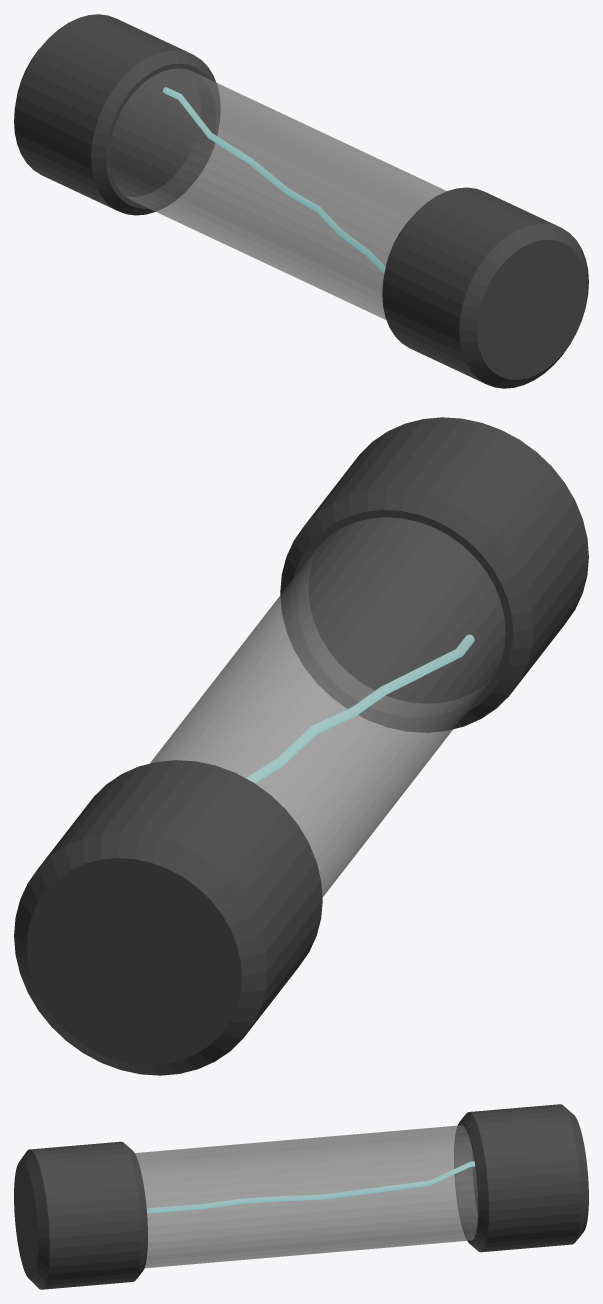
Rendered from Fuse.glb.
3 views of the same model, one above another, from view 1: azimuth 30°, elevation 25°; view 2: azimuth 150°, elevation 25°; view 3: azimuth 270°, elevation 25° (orthographic). The views are drawn at different scales.
Parts seen in each view (by area): view 1: Cylinder; view 2: Cylinder; view 3: Cylinder.
Boxes of the visible parts, x1,y1,x2,y2 form: Cylinder: (14,14,588,388); Cylinder: (14,417,588,1075); Cylinder: (14,1104,588,1289).
Bounding box in the file's own units: 0.0881 × 0.0505 × 0.2041.
